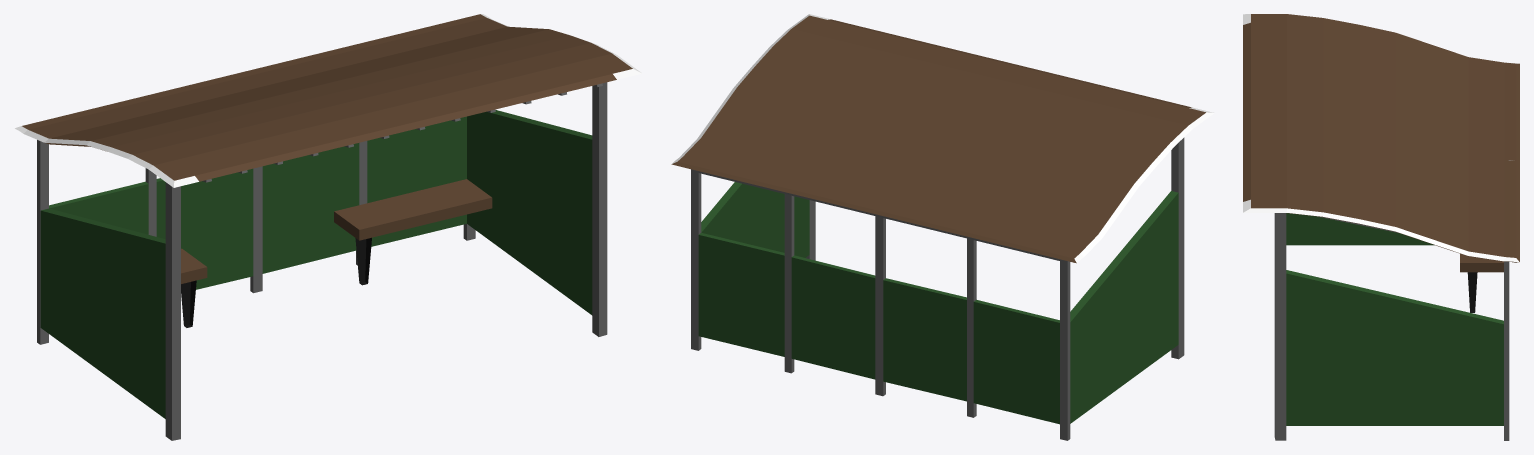
Rendered from busStop.glb.
3 renders of one model, left to right at view 1: azimuth 30°, elevation 25°; view 2: azimuth 150°, elevation 25°; view 3: azimuth 270°, elevation 25°, orthographic. The views are drawn at different scales.
Parts seen in each view (by area): view 1: BusStop; view 2: BusStop; view 3: BusStop.
Part boxes in pixels (bbox=[...]): BusStop: bbox=[15, 14, 641, 440]; BusStop: bbox=[671, 14, 1213, 440]; BusStop: bbox=[1243, 14, 1519, 440].
Bounding box in the file's own units: 9.24 × 5.16 × 5.45.
